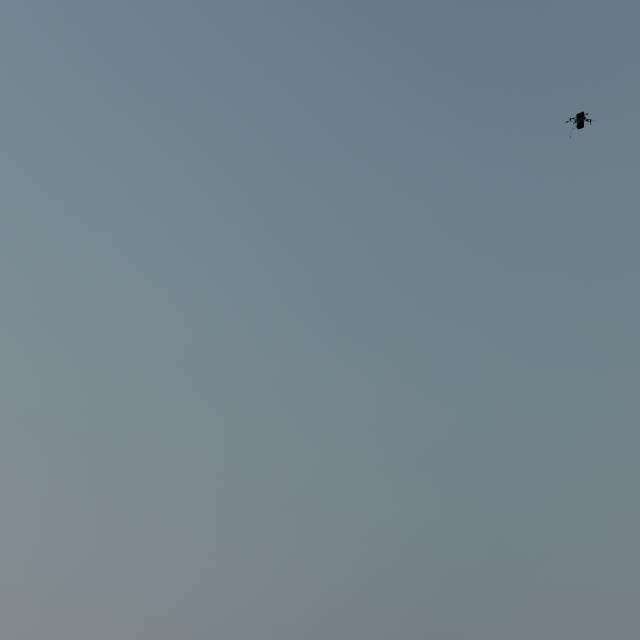drone: (566, 111, 596, 138)
